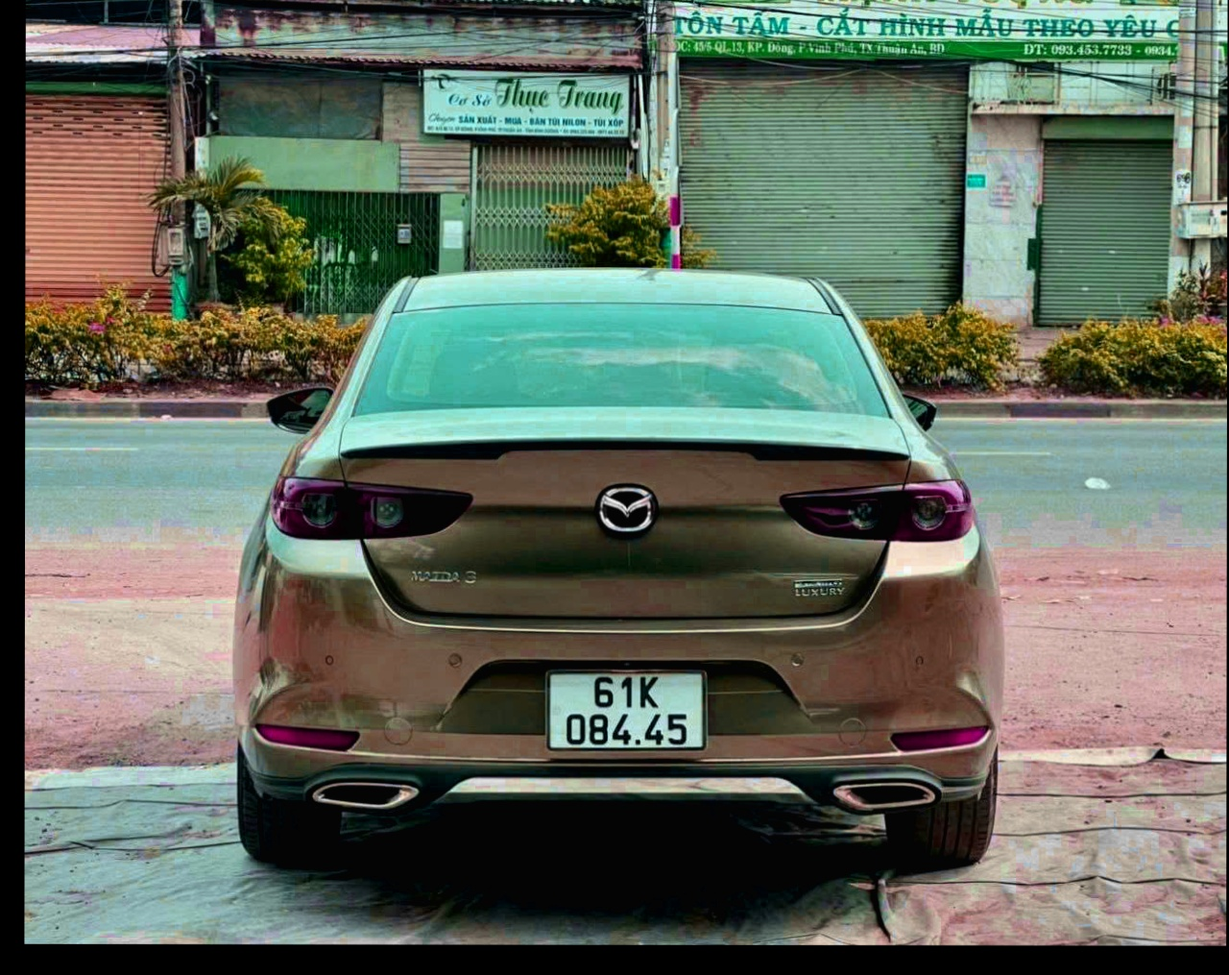Bien-so: (533, 700, 700, 777)
